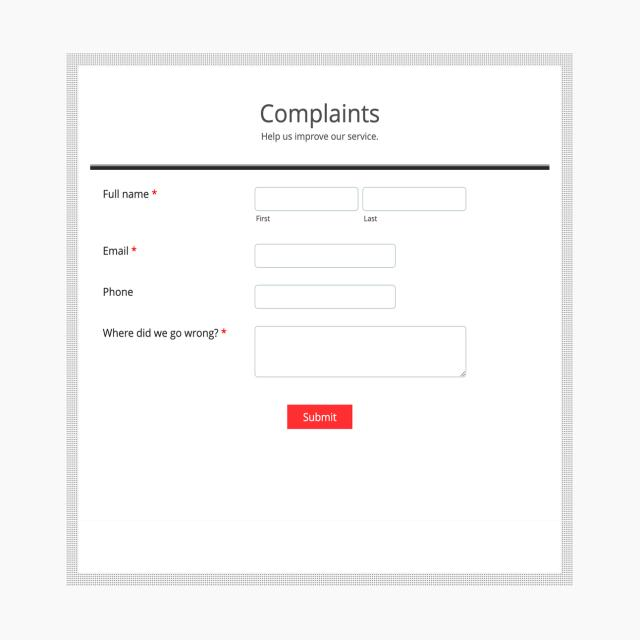buttons: (289, 402, 354, 430)
input-fields: (258, 324, 468, 376), (254, 185, 465, 223), (253, 282, 400, 312), (254, 244, 401, 270)
text: (260, 101, 382, 143)
